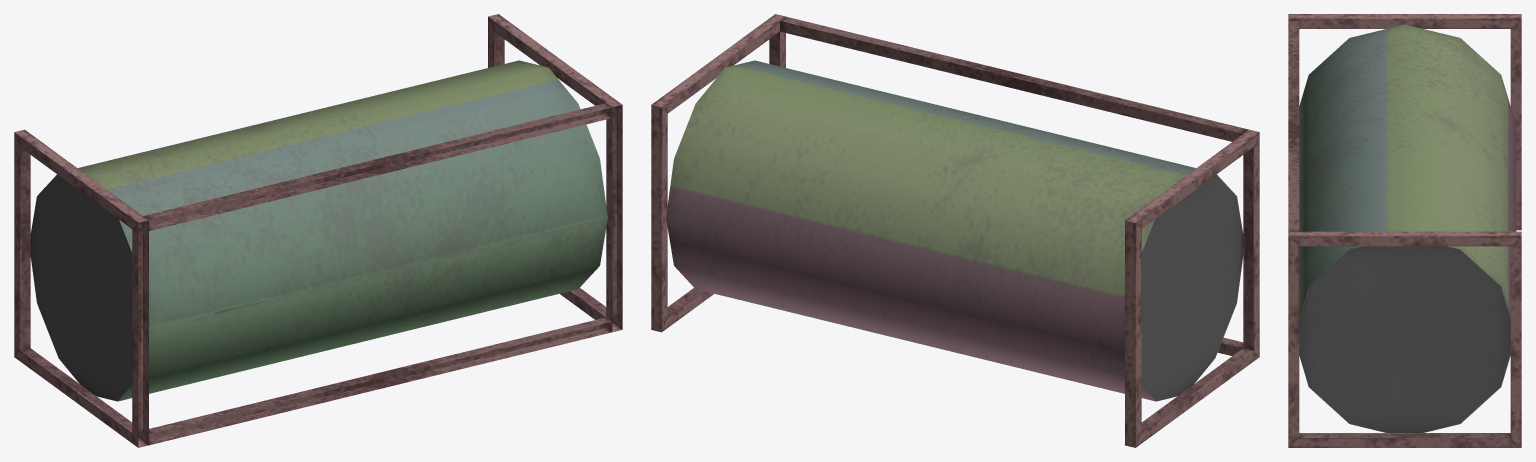
File: Resource_tank.fbx
The picture shows the model from 3 angles, left to right: view 1: azimuth 30°, elevation 25°; view 2: azimuth 150°, elevation 25°; view 3: azimuth 270°, elevation 25°; orthographic projection. The views are drawn at different scales.
Visible parts, largest first — view 1: Shape002; view 2: Shape002; view 3: Shape002.
Boxes of the visible parts, bbox=[...] form: Shape002: bbox=[14, 14, 622, 447]; Shape002: bbox=[651, 14, 1259, 447]; Shape002: bbox=[1288, 14, 1521, 447].
Bounding box in the file's own units: 186 × 82.68 × 82.68.
